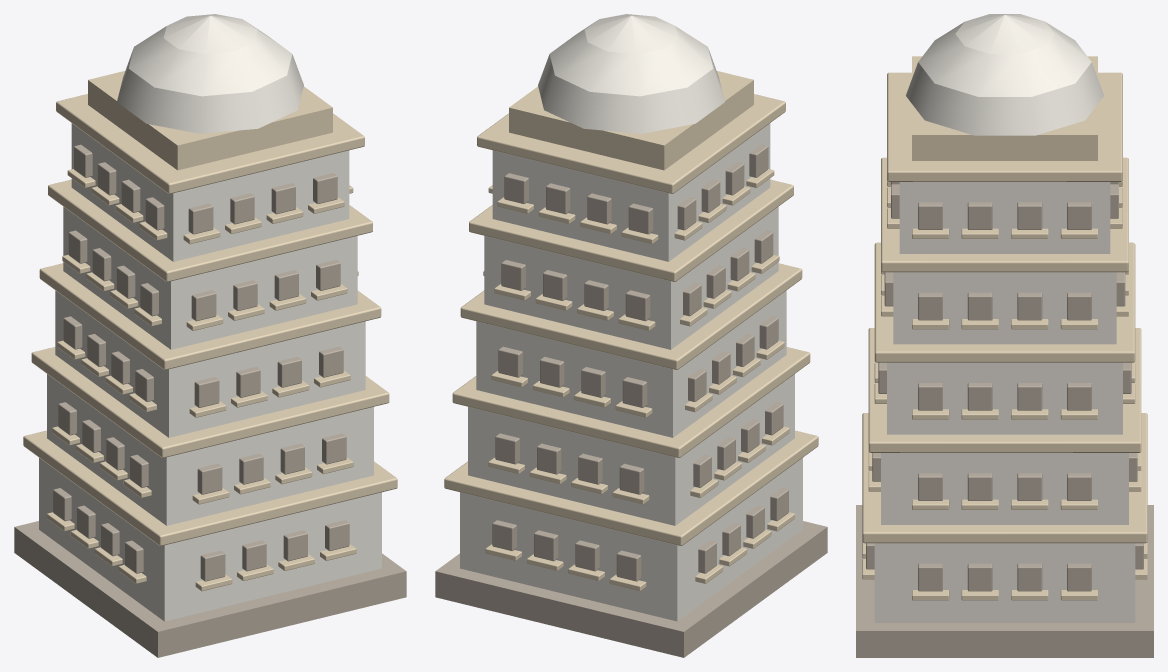
Rendered from pigeon-cote-76aa126b.glb.
3 views of the same model, side by side, from view 1: azimuth 30°, elevation 25°; view 2: azimuth 150°, elevation 25°; view 3: azimuth 270°, elevation 25° (orthographic). The views are drawn at different scales.
Parts seen in each view (by area): view 1: pigeon-cote; view 2: pigeon-cote; view 3: pigeon-cote.
Part boxes in pixels (x1,y1,x2,y2): pigeon-cote: [14, 14, 406, 657]; pigeon-cote: [435, 14, 827, 657]; pigeon-cote: [856, 14, 1153, 657].
Size of the model in its own units: 2.4 by 5.16 by 2.4.
